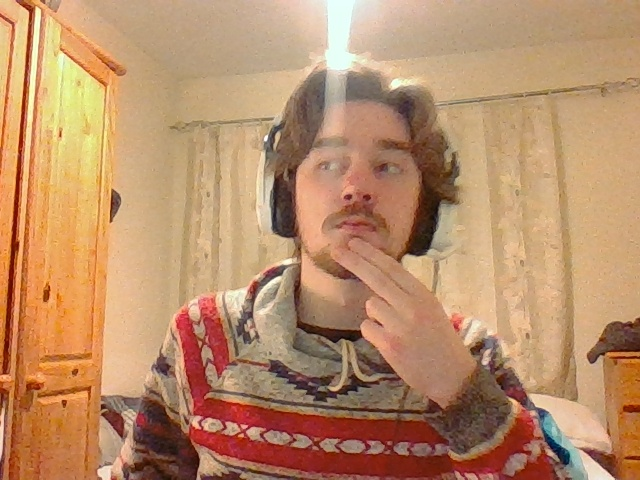afternoon: (322, 238, 475, 398)
